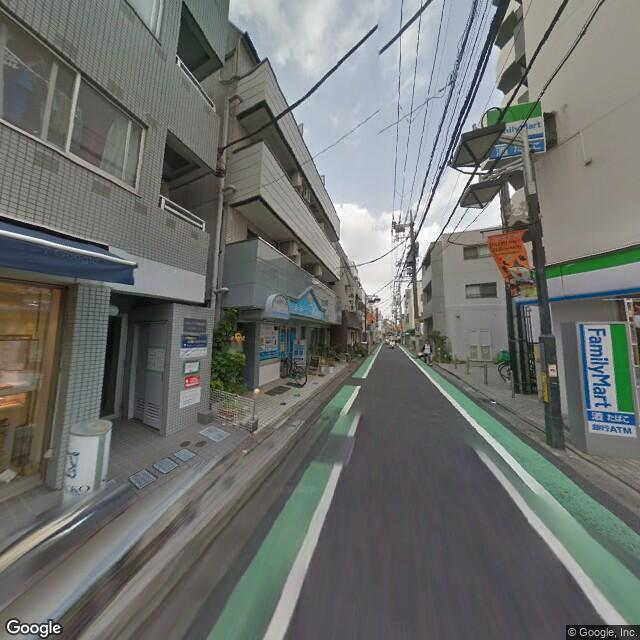family_mart: (577, 314, 632, 424), (545, 241, 635, 299), (488, 95, 546, 157)
